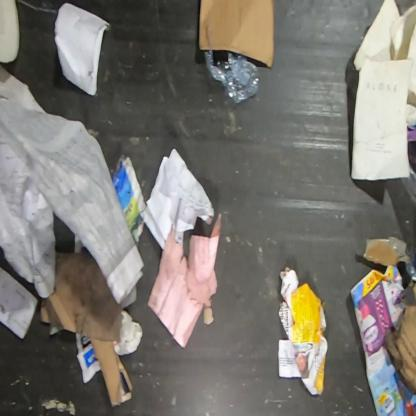cardboard: (40, 249, 134, 409), (278, 265, 328, 395), (198, 0, 275, 70), (387, 281, 415, 415), (361, 235, 415, 283)
rigid_plastic: (204, 49, 259, 104)
